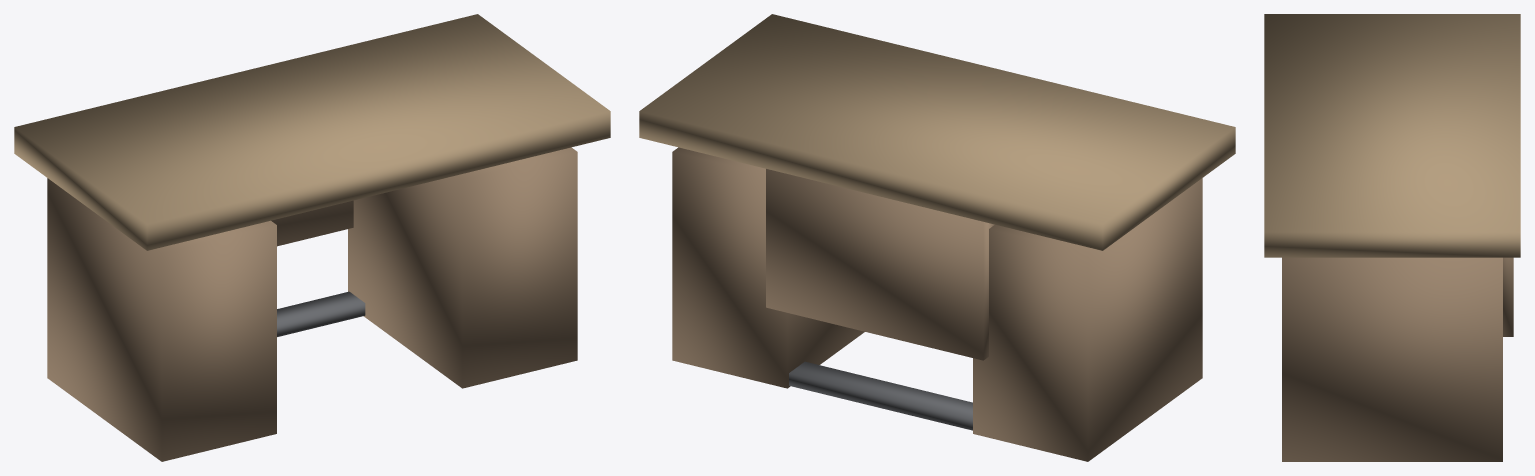
File: office_desk__reinforced.glb
The picture shows the model from 3 angles, left to right: view 1: azimuth 30°, elevation 25°; view 2: azimuth 150°, elevation 25°; view 3: azimuth 270°, elevation 25°; orthographic projection. The views are drawn at different scales.
Visible parts, largest first — view 1: world; view 2: world; view 3: world.
Part boxes in pixels (box(x1,y1,x2,y2)): world: box(14, 14, 610, 461); world: box(639, 14, 1235, 461); world: box(1264, 14, 1520, 461).
Size of the model in its own units: 1.49 by 0.7701 by 0.7416.
